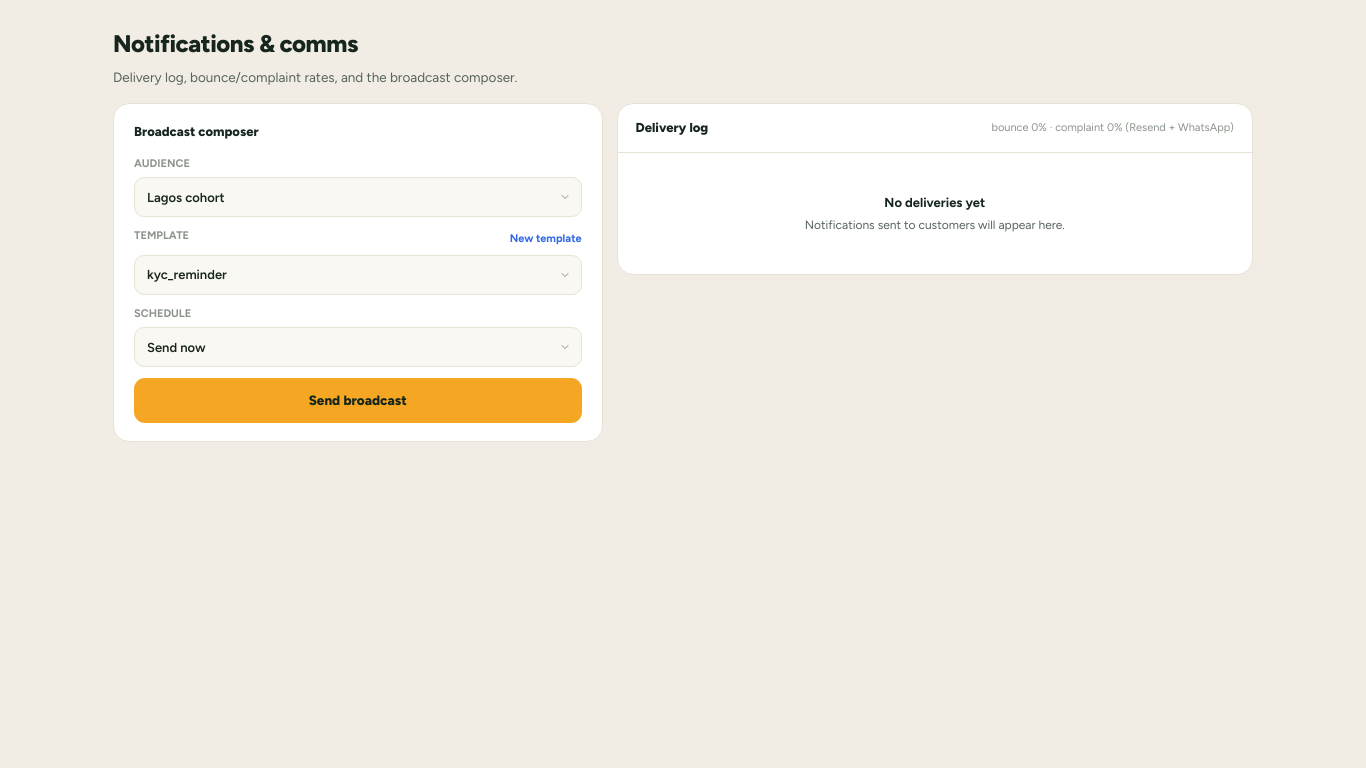
Scenario: NotificationsPage (broadcast composer — template authoring) › opens the shared template editor in create mode from the New template affordance
Click the button "New template".
click(546, 239)  # box [510, 231, 582, 247]
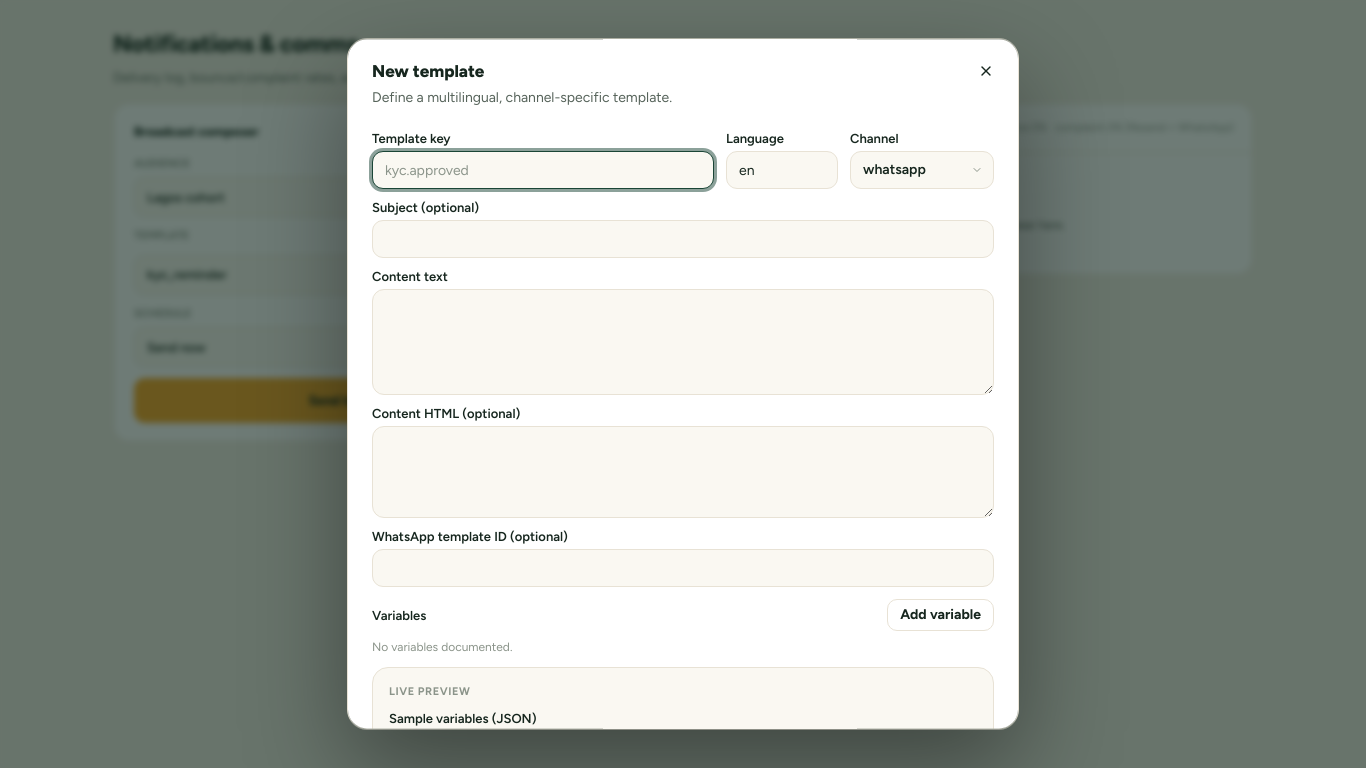
Expected: the heading "New template" is shown, [372, 61, 484, 81]
Expected: the field labelled "Template key" is empty, [372, 151, 714, 189]
